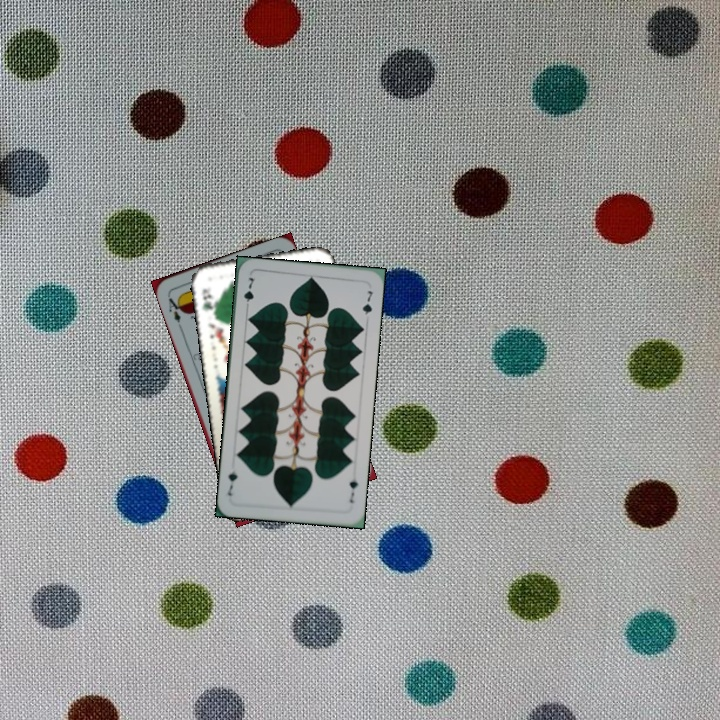EA: (163, 291, 186, 325)
G7: (240, 273, 258, 313), (345, 476, 361, 506)
GK: (198, 284, 218, 317)
